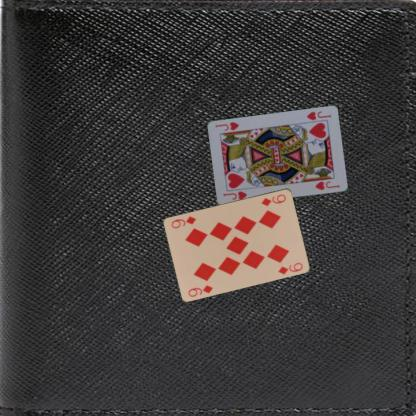9d: (259, 192, 287, 208), (186, 282, 214, 298)
Jh: (304, 109, 332, 121), (221, 189, 248, 201)
